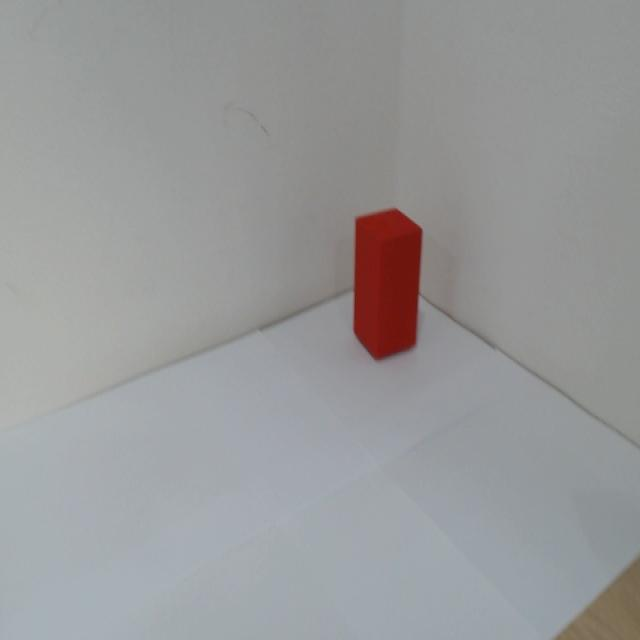cube: (349, 205, 425, 365)
